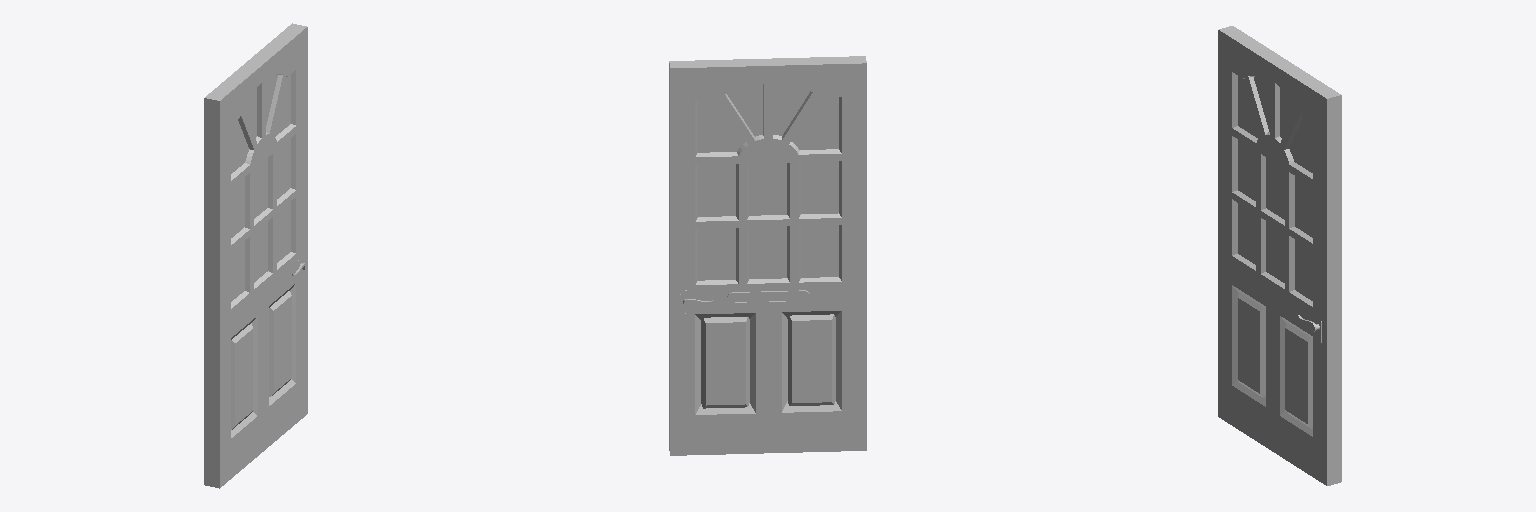
Rendered from door2_000009.obj.
3 renders of one model, left to right at view 1: azimuth 30°, elevation 25°; view 2: azimuth 150°, elevation 25°; view 3: azimuth 270°, elevation 25°, orthographic.
Parts seen in each view (by area): view 1: Door.000_Door.004; view 2: Door.000_Door.004; view 3: Door.000_Door.004.
Boxes of the visible parts, x1=… form: Door.000_Door.004: x1=204, y1=23, x2=307, y2=488; Door.000_Door.004: x1=669, y1=56, x2=866, y2=455; Door.000_Door.004: x1=1218, y1=26, x2=1341, y2=485.
Size of the model in its own units: 0.6524 by 1.6 by 0.4625.